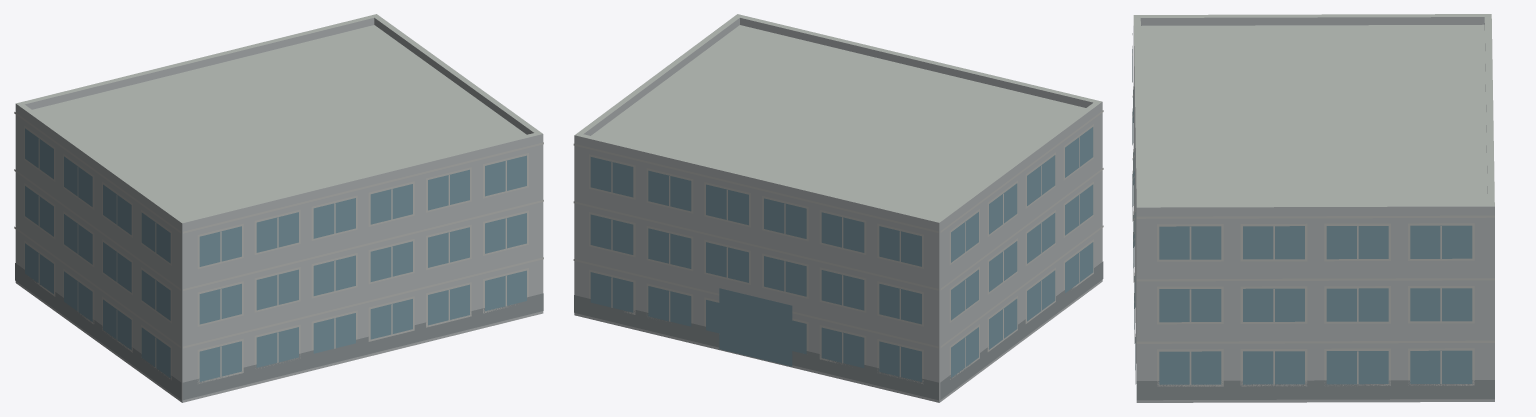
File: public-3d379e71-8e6a-4d3b-a842-a7f2f671a087.glb
The picture shows the model from 3 angles, left to right: view 1: azimuth 30°, elevation 25°; view 2: azimuth 150°, elevation 25°; view 3: azimuth 270°, elevation 25°; orthographic projection. The views are drawn at different scales.
Visible parts, largest first — view 1: public-3d379e71-8e6a-4d3b-a842-a7f2f671a087; view 2: public-3d379e71-8e6a-4d3b-a842-a7f2f671a087; view 3: public-3d379e71-8e6a-4d3b-a842-a7f2f671a087.
Boxes of the visible parts, x1=… form: public-3d379e71-8e6a-4d3b-a842-a7f2f671a087: x1=14, y1=14, x2=543, y2=402; public-3d379e71-8e6a-4d3b-a842-a7f2f671a087: x1=573, y1=14, x2=1103, y2=402; public-3d379e71-8e6a-4d3b-a842-a7f2f671a087: x1=1132, y1=14, x2=1494, y2=402.
Bounding box in the file's own units: 19.58 × 9.15 × 16.55.
